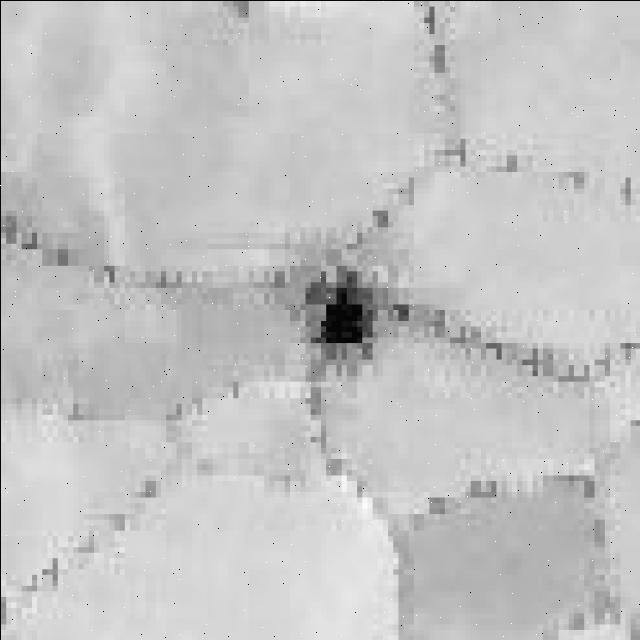good_void: (294, 260, 385, 371)
